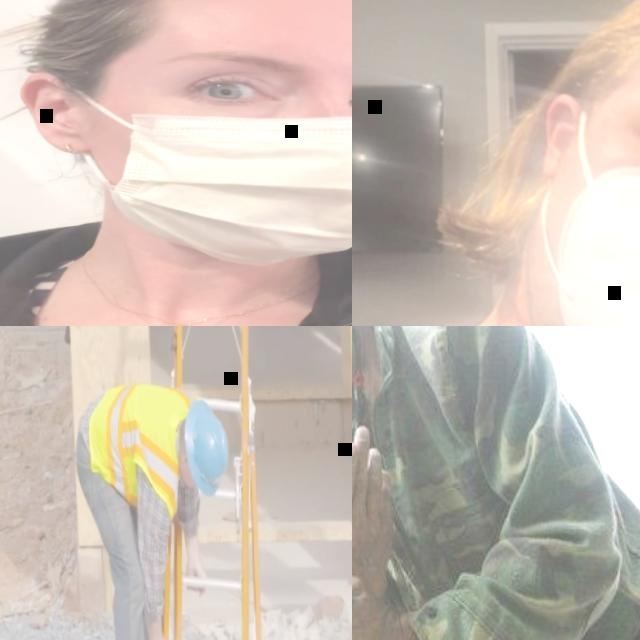Hardhat: (182, 398, 228, 496)
Mask: (67, 80, 352, 268), (532, 158, 640, 326)
NO-Hardhat: (41, 0, 352, 38)
NO-Mask: (180, 468, 190, 490)
NO-Safety Vest: (352, 326, 640, 640)
Person: (0, 0, 352, 326), (352, 0, 640, 326), (352, 326, 640, 640), (69, 378, 231, 640)
Safety Vest: (86, 380, 190, 521)
